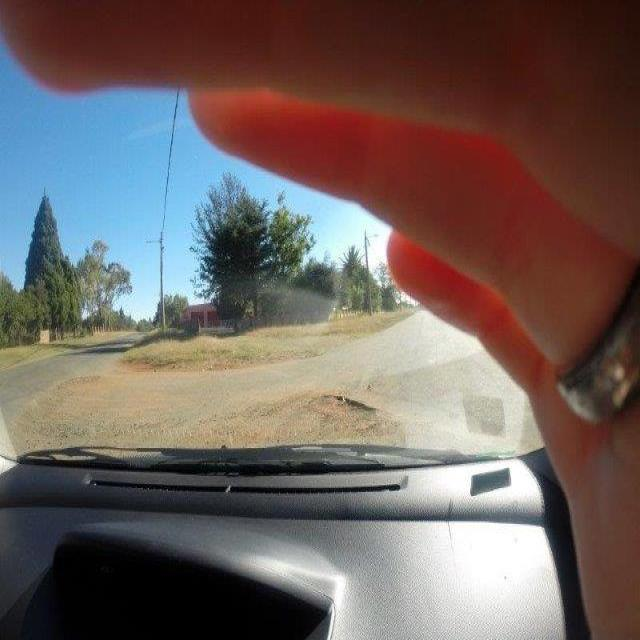lubang: (205, 389, 331, 444), (45, 369, 133, 442), (309, 388, 388, 445), (7, 400, 54, 446), (162, 360, 259, 381), (107, 351, 156, 376)
